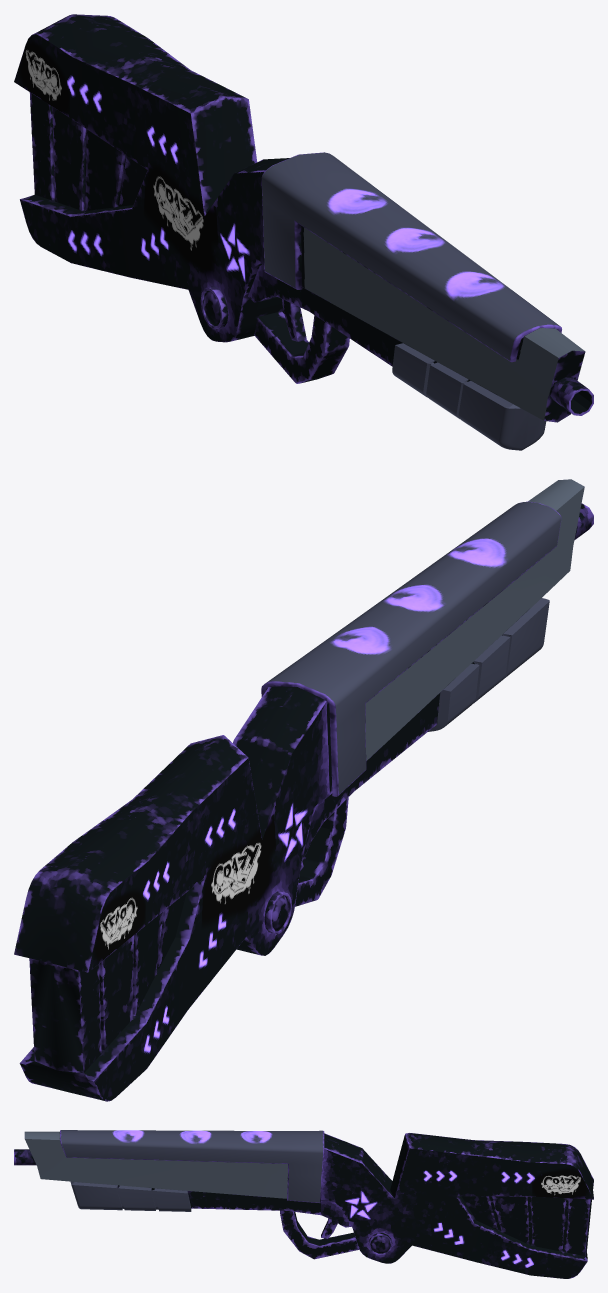
The model's file is Short gun.glb.
The picture shows the model from 3 angles, top to bottom: view 1: azimuth 30°, elevation 25°; view 2: azimuth 150°, elevation 25°; view 3: azimuth 270°, elevation 25°; orthographic projection. The views are drawn at different scales.
Visible parts, largest first — view 1: Plane002.001; view 2: Plane002.001; view 3: Plane002.001.
Boxes of the visible parts, x1,y1,x2,y2 form: Plane002.001: (14,14,593,450); Plane002.001: (14,479,593,1101); Plane002.001: (14,1130,593,1278).
Bounding box in the file's own units: 0.0529 × 0.1656 × 0.6394.
1 material, 1 textured.
